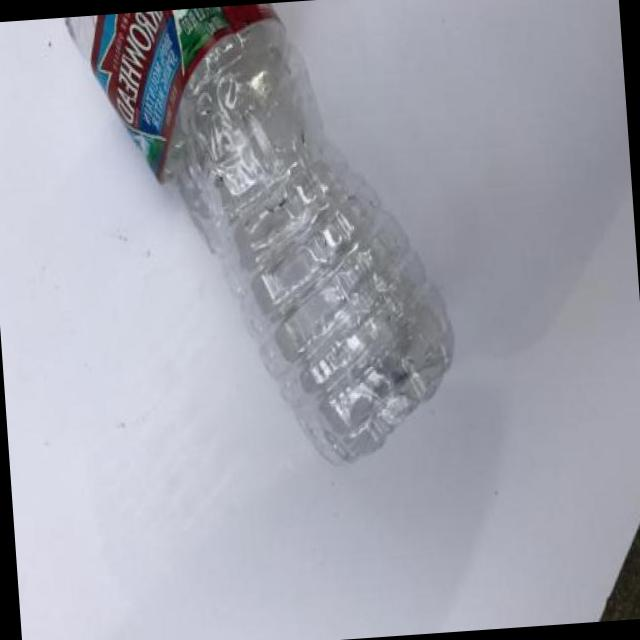plastic_bottle: (59, 0, 463, 483)
